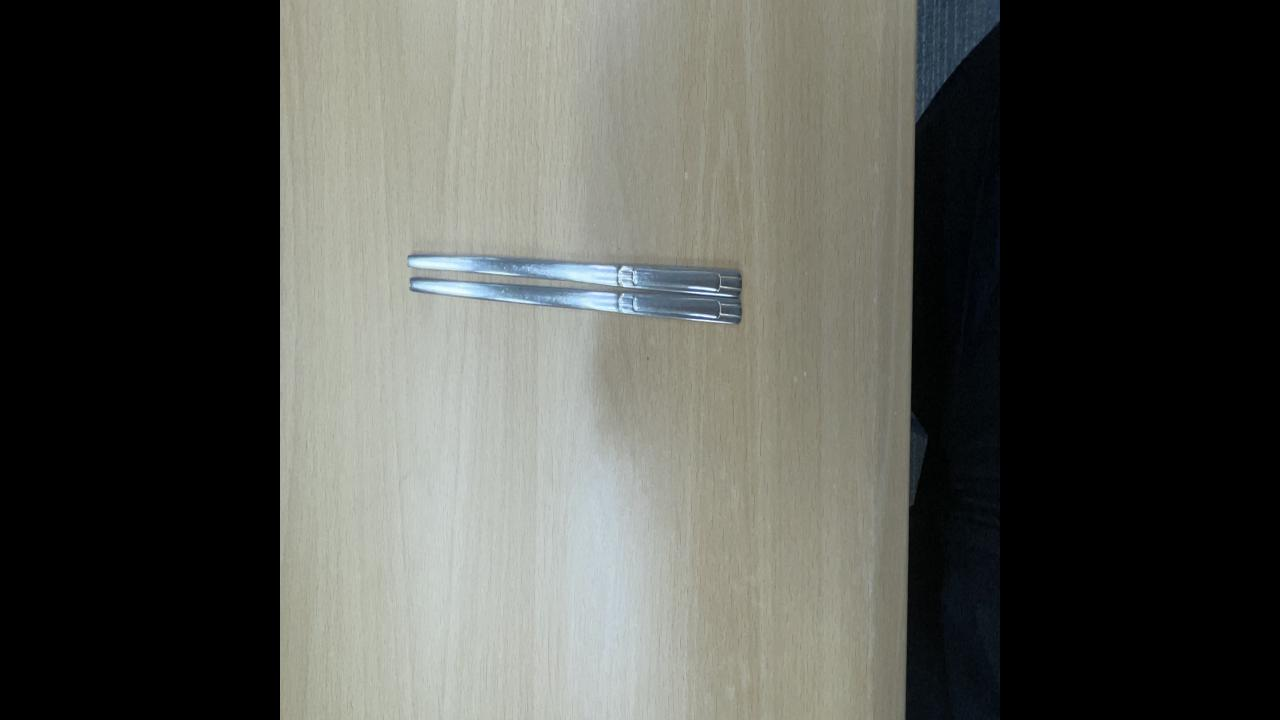chopstick: (403, 252, 750, 328)
